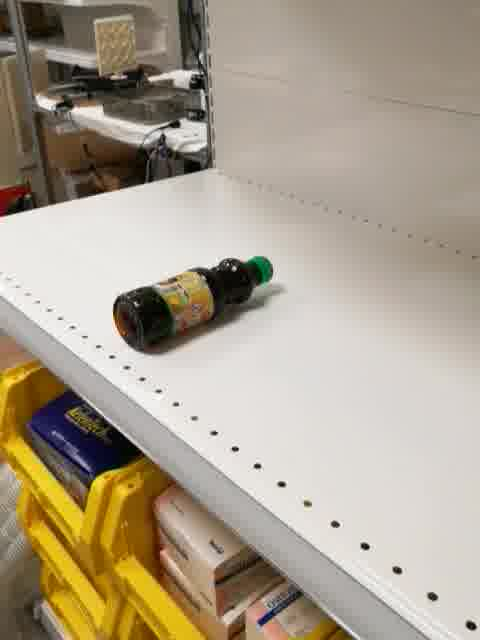cookingoil: (111, 255, 276, 353)
